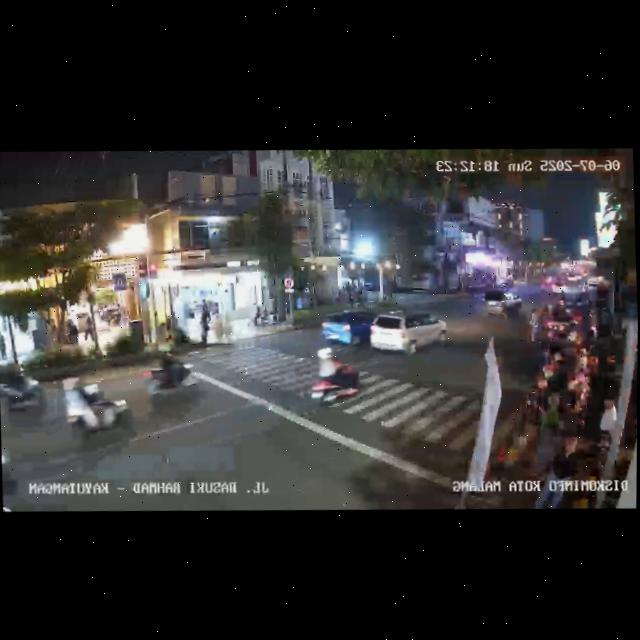car: (367, 306, 448, 360), (317, 307, 378, 347), (484, 287, 524, 320)
motorcycle: (60, 375, 136, 442), (305, 340, 365, 411), (141, 349, 197, 403), (0, 362, 46, 422)
person: (531, 432, 590, 511), (533, 389, 564, 465), (595, 395, 621, 437), (527, 306, 543, 345), (66, 316, 79, 346), (225, 315, 238, 343), (214, 313, 224, 343), (83, 316, 95, 340), (200, 319, 211, 345), (0, 330, 6, 360), (200, 305, 210, 323)
